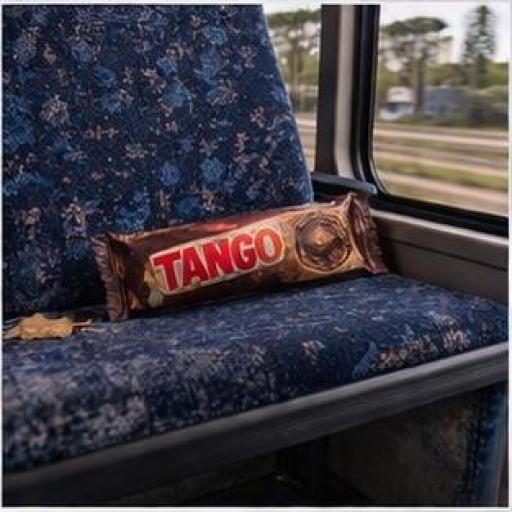tango: (68, 153, 424, 363)
